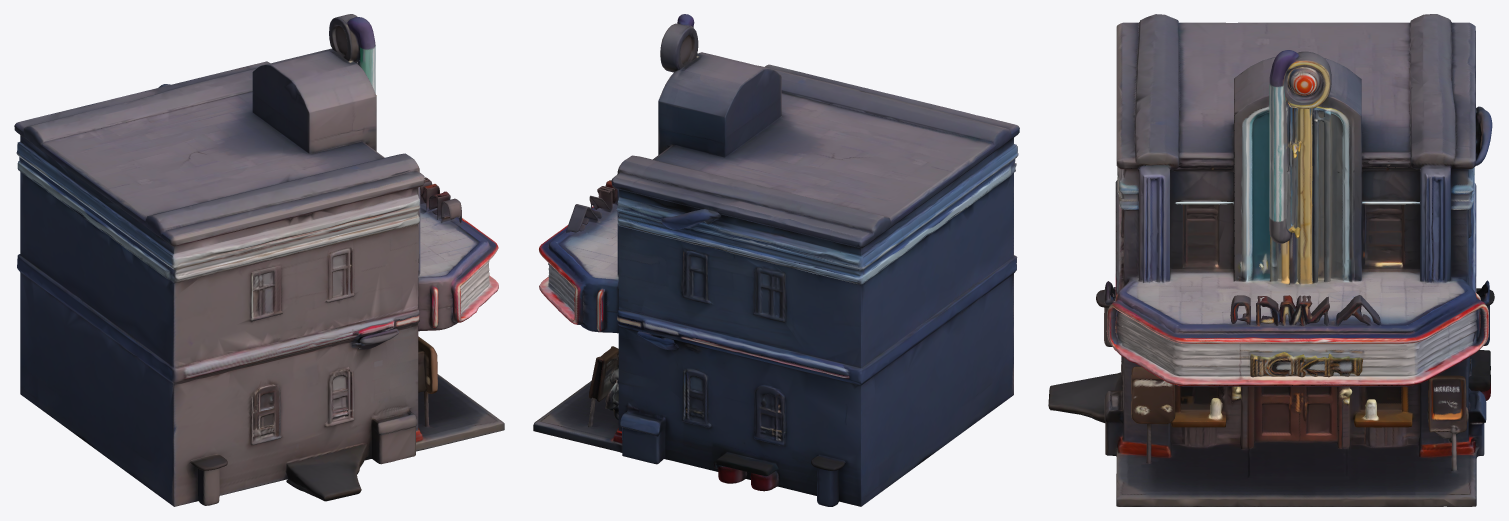
Rendered from building-cinema.glb.
3 renders of one model, left to right at view 1: azimuth 30°, elevation 25°; view 2: azimuth 150°, elevation 25°; view 3: azimuth 270°, elevation 25°, orthographic. The views are drawn at different scales.
Visible parts, largest first — view 1: tripo_node_94ba02fd-1833-4076-9d54-834a213ae0cf; view 2: tripo_node_94ba02fd-1833-4076-9d54-834a213ae0cf; view 3: tripo_node_94ba02fd-1833-4076-9d54-834a213ae0cf.
Part boxes in pixels (x1=…): tripo_node_94ba02fd-1833-4076-9d54-834a213ae0cf: x1=14, y1=14, x2=504, y2=506; tripo_node_94ba02fd-1833-4076-9d54-834a213ae0cf: x1=533, y1=14, x2=1019, y2=506; tripo_node_94ba02fd-1833-4076-9d54-834a213ae0cf: x1=1048, y1=14, x2=1494, y2=506.
Bounding box in the file's own units: 9.99 × 10 × 9.68.
1 material, 1 textured.
